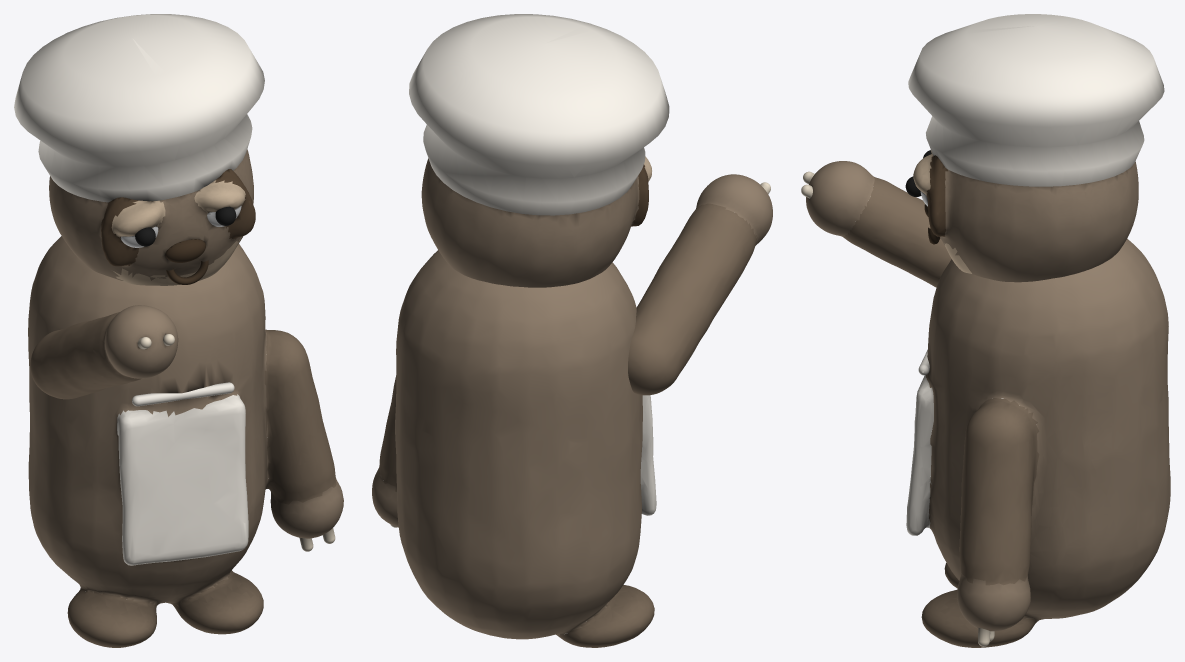
File: det-ar-lugnt.glb
3 renders of one model, left to right at view 1: azimuth 30°, elevation 25°; view 2: azimuth 150°, elevation 25°; view 3: azimuth 270°, elevation 25°, orthographic. The views are drawn at different scales.
Parts seen in each view (by area): view 1: preguica__r0, cabeca__r3, cabeca__r0, bracoR__r0, preguica__r1, cabeca__r1; view 2: preguica__r0, cabeca__r3, bracoR__r0, cabeca__r0; view 3: preguica__r0, cabeca__r3, cabeca__r0, bracoR__r0.
Part boxes in pixels (x1,y1,x2,y2): preguica__r0: (28, 236, 343, 647); cabeca__r3: (14, 14, 264, 202); cabeca__r0: (49, 149, 255, 285); bracoR__r0: (30, 305, 178, 399); preguica__r1: (132, 382, 234, 406); cabeca__r1: (165, 239, 205, 262); preguica__r0: (372, 250, 656, 647); cabeca__r3: (409, 14, 669, 215); bracoR__r0: (628, 174, 772, 395); cabeca__r0: (421, 156, 651, 287); preguica__r0: (906, 238, 1170, 647); cabeca__r3: (908, 14, 1164, 186); cabeca__r0: (913, 150, 1138, 282); bracoR__r0: (806, 161, 951, 287).
Size of the model in its own units: 0.944 by 1.72 by 0.9793.
